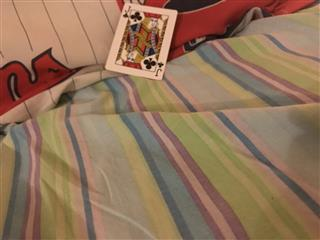JackOfClubs: (104, 2, 178, 80)
